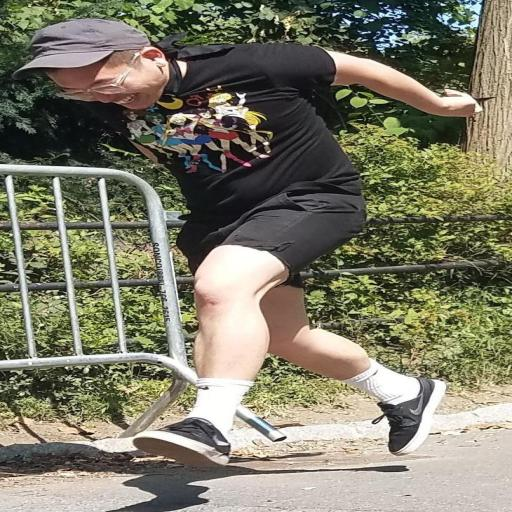person: (14, 19, 481, 464)
